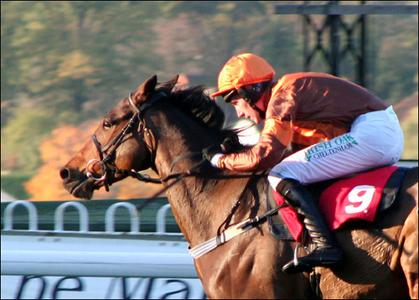person: (210, 51, 406, 273)
